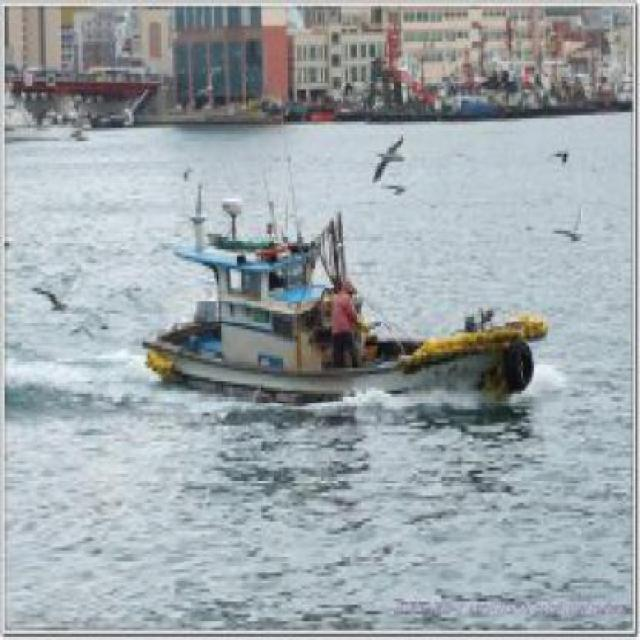fish-b: (125, 187, 560, 427)
